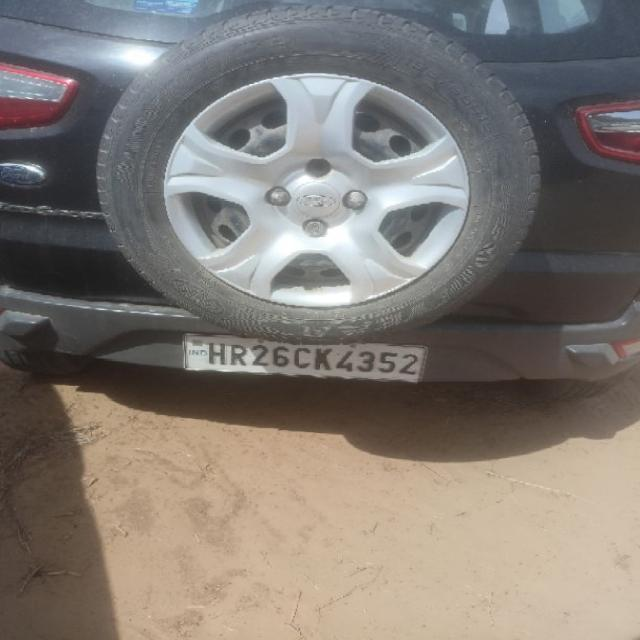license_plate: (180, 332, 428, 384)
